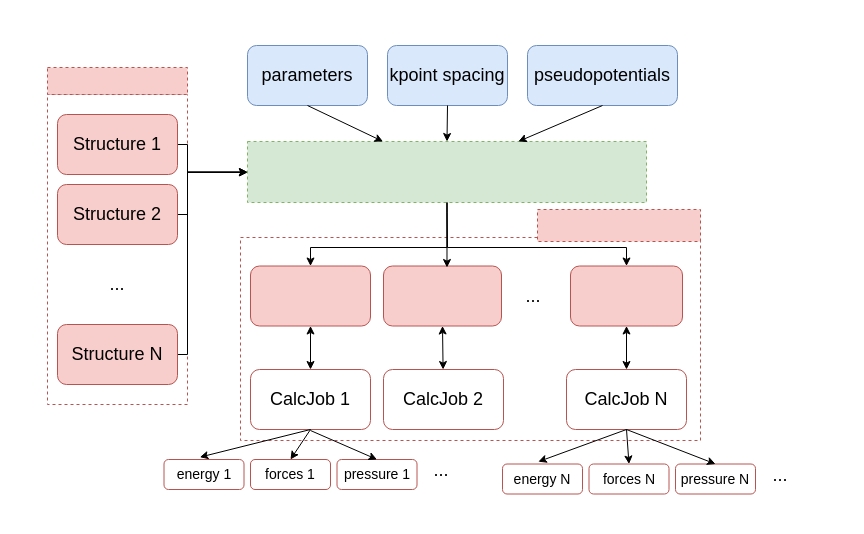
Image size: 864x534. Some labels were removed from this diagram. The centre of each missing label's shape, as x and y in pixels:
"aiida_launch_workflow.py" goes at (446,171).
"Calculation Group" goes at (618,225).
"Structure Group" goes at (117,80).
"WorkChain 1" goes at (310,295).
"WorkChain 2" goes at (442,295).
"WorkChain N" goes at (626,295).
